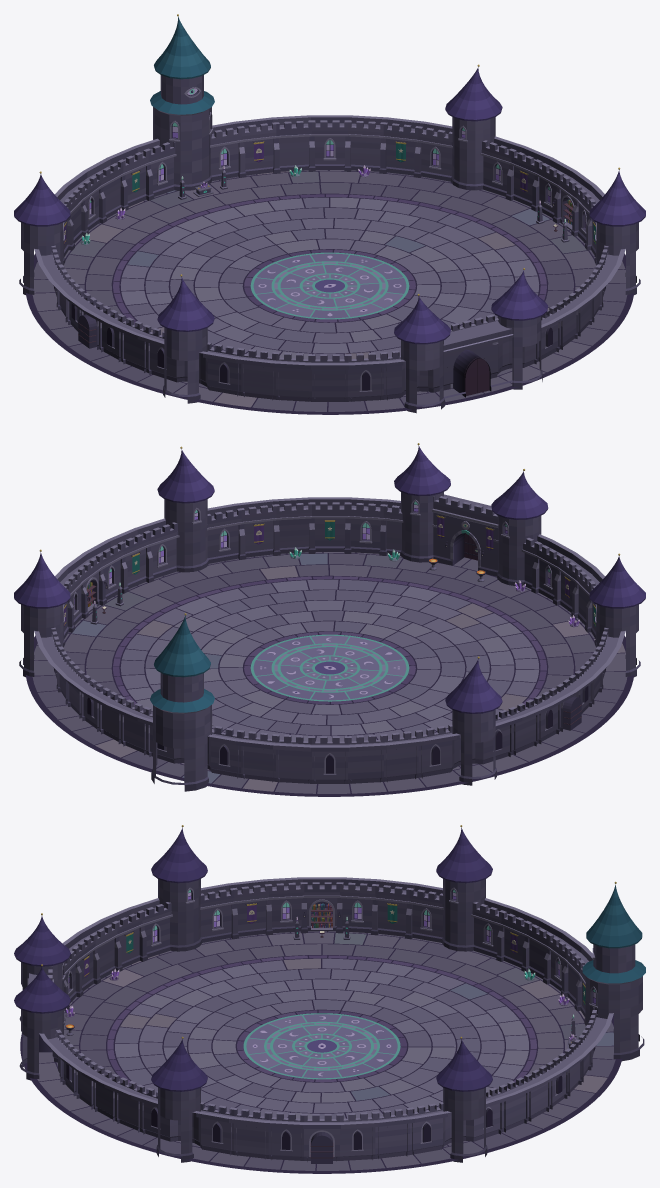
Rendered from Wizard_Castle.glb.
The picture shows the model from 3 angles, top to bottom: view 1: azimuth 30°, elevation 25°; view 2: azimuth 150°, elevation 25°; view 3: azimuth 270°, elevation 25°; orthographic projection.
Parts seen in each view (by area): view 1: Floor, Walls, Props; view 2: Floor, Walls, Props; view 3: Floor, Walls, Props.
Boxes of the visible parts, bbox=[...] form: Floor: bbox=[26, 170, 634, 414]; Walls: bbox=[14, 14, 645, 413]; Props: bbox=[64, 141, 595, 396]; Floor: bbox=[25, 552, 633, 796]; Walls: bbox=[14, 443, 645, 791]; Props: bbox=[64, 514, 595, 749]; Floor: bbox=[20, 931, 622, 1173]; Walls: bbox=[14, 825, 645, 1163]; Props: bbox=[65, 902, 585, 1158].
Bounding box in the file's own units: 126 × 38.49 × 132.
